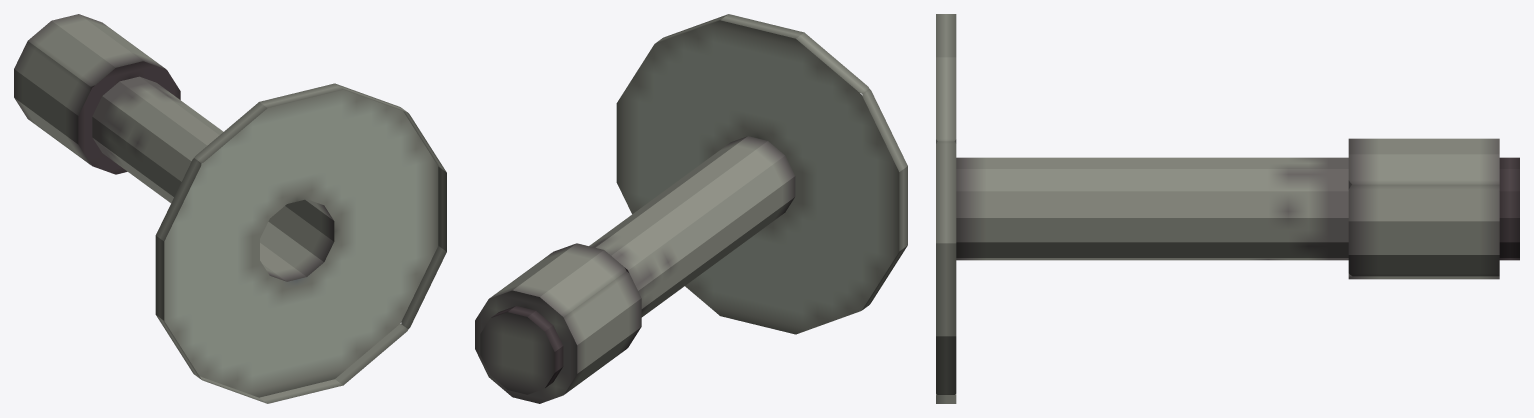
Rendered from cameraMain.fbx.
The picture shows the model from 3 angles, left to right: view 1: azimuth 30°, elevation 25°; view 2: azimuth 150°, elevation 25°; view 3: azimuth 270°, elevation 25°; orthographic projection. The views are drawn at different scales.
Visible parts, largest first — view 1: cameraMain; view 2: cameraMain; view 3: cameraMain.
Part boxes in pixels (<box>): cameraMain: <box>14,14,446,403</box>; cameraMain: <box>475,14,907,403</box>; cameraMain: <box>936,14,1519,403</box>.
Size of the model in its own units: 59.38 by 59.38 by 90.62.
